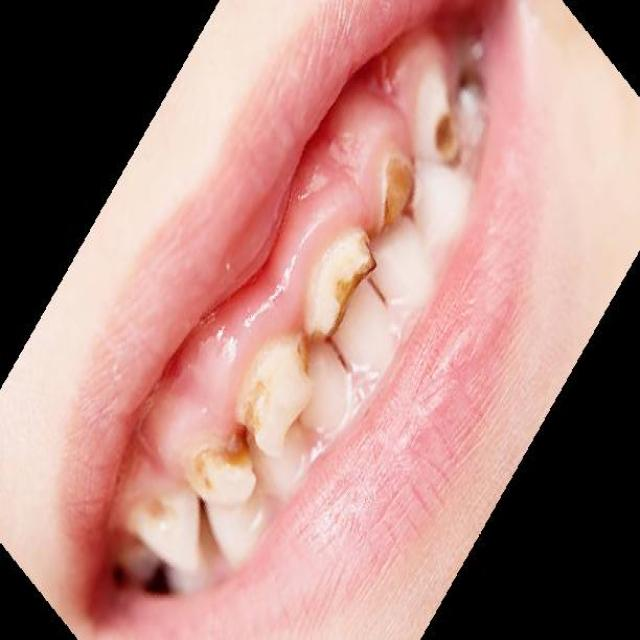caries: (213, 398, 259, 480), (337, 228, 389, 300), (281, 309, 333, 378), (378, 156, 421, 218), (433, 108, 464, 172)
